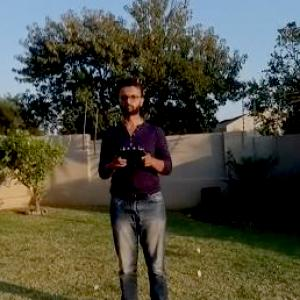follow: (92, 73, 180, 299)
